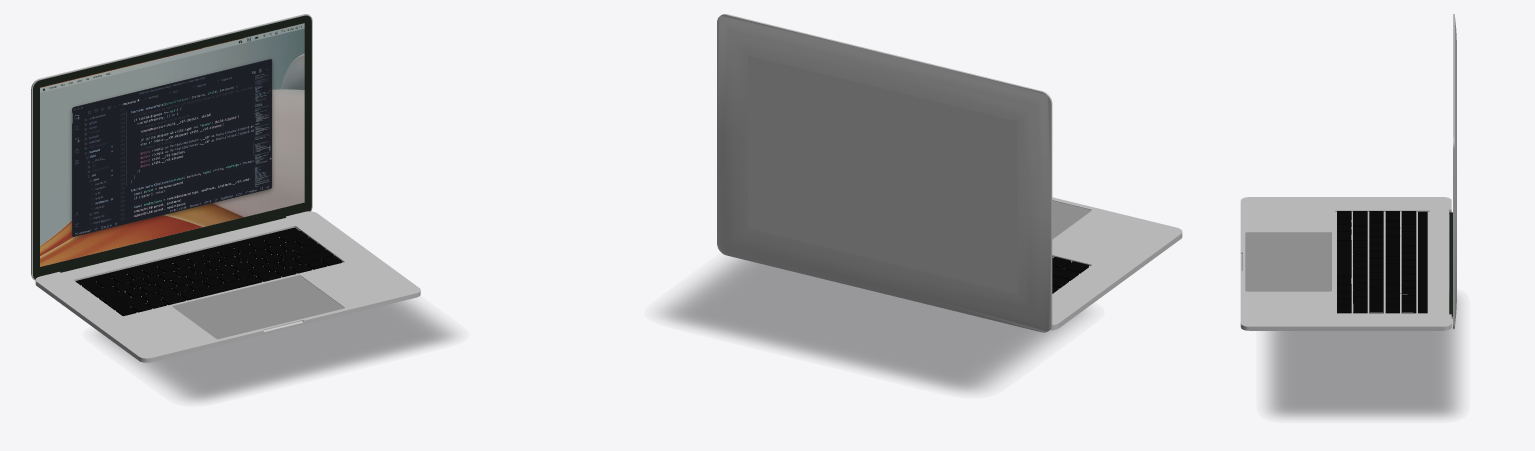
File: laptop.glb
The picture shows the model from 3 angles, left to right: view 1: azimuth 30°, elevation 25°; view 2: azimuth 150°, elevation 25°; view 3: azimuth 270°, elevation 25°; orthographic projection. The views are drawn at different scales.
Parts seen in each view (by area): view 1: screen, base, shadowCatcher, keyboard, screenBazel, trackPad, screenBack; view 2: screenBack, shadowCatcher, base, trackPad, keyboard; view 3: shadowCatcher, base, keyboard, trackPad, screenBack, screenBazel.
Boxes of the visible parts, left/top/right/bottom form: screen: left=40, top=23, right=304, bottom=266; base: left=35, top=211, right=420, bottom=362; shadowCatcher: left=98, top=300, right=453, bottom=400; keyboard: left=75, top=227, right=342, bottom=316; screenBazel: left=33, top=15, right=311, bottom=279; trackPad: left=172, top=275, right=344, bottom=339; screenBack: left=31, top=14, right=312, bottom=280; screenBack: left=717, top=14, right=1052, bottom=332; shadowCatcher: left=662, top=258, right=1086, bottom=391; base: left=1049, top=197, right=1182, bottom=330; trackPad: left=1052, top=200, right=1091, bottom=239; keyboard: left=1052, top=256, right=1088, bottom=293; shadowCatcher: left=1267, top=299, right=1458, bottom=417; base: left=1240, top=197, right=1451, bottom=330; keyboard: left=1337, top=211, right=1427, bottom=313; trackPad: left=1245, top=232, right=1331, bottom=291; screenBack: left=1451, top=14, right=1456, bottom=329; screenBazel: left=1449, top=212, right=1452, bottom=316.
Size of the model in its own units: 11.77 by 7.99 by 8.89.
Materials: 7 (2 with a texture image).
